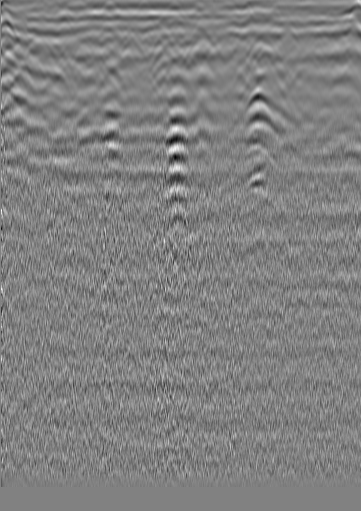가스: (234, 167, 274, 197)
상수: (0, 15, 20, 35)
오수: (312, 25, 332, 45)
우수: (156, 27, 176, 47)
